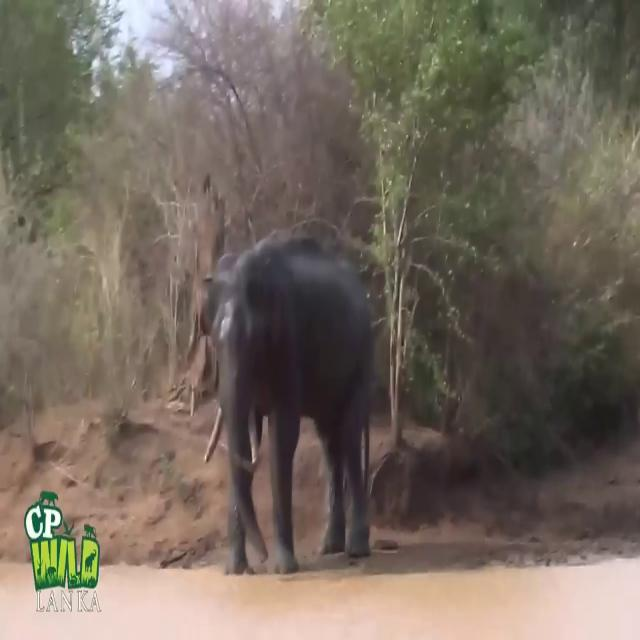Elephant: (198, 235, 373, 575)
